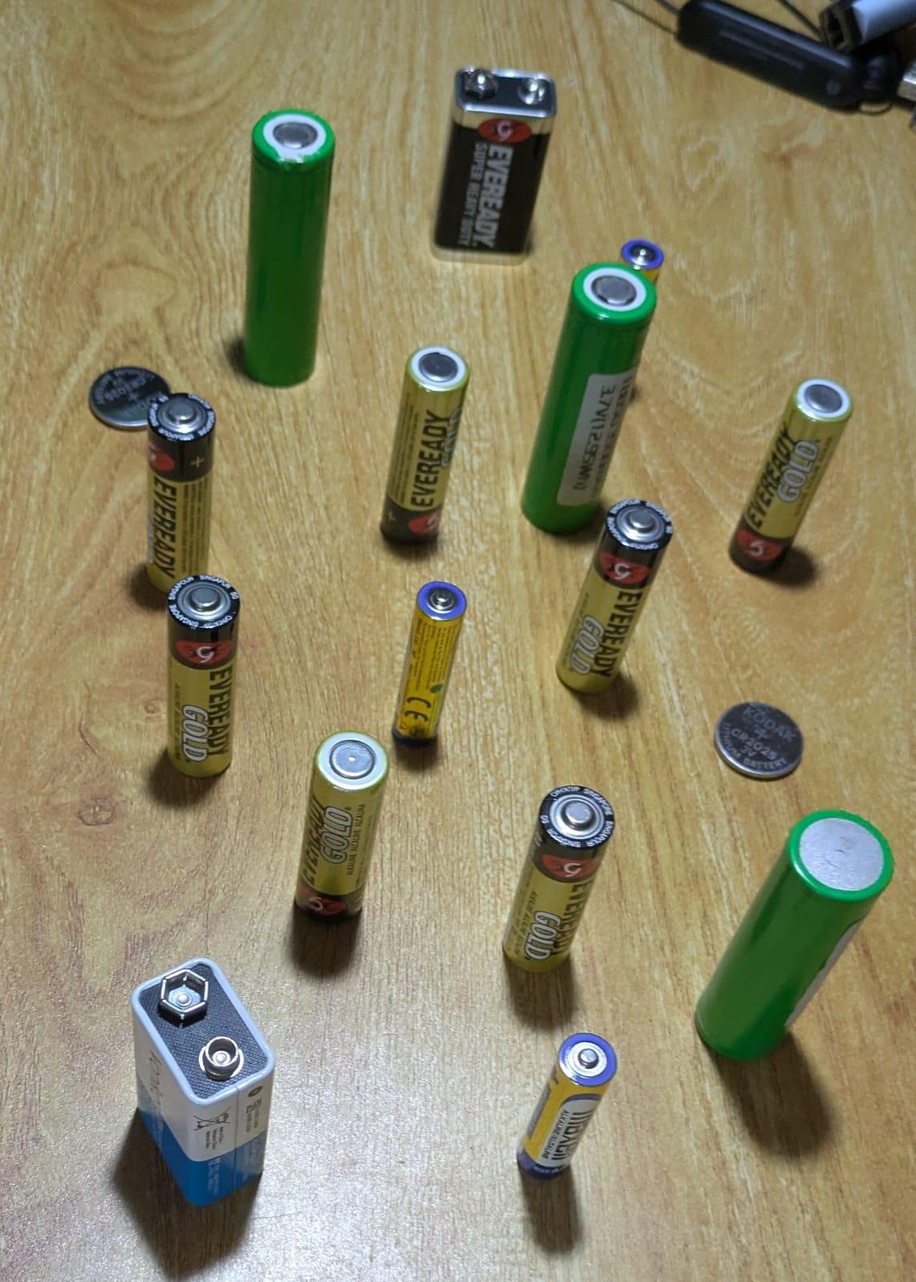9V: (127, 954, 278, 1206), (432, 67, 559, 262)
AA: (727, 378, 852, 578), (554, 500, 672, 693), (500, 781, 617, 973), (379, 346, 471, 548), (293, 731, 388, 920), (164, 568, 242, 772), (145, 390, 218, 596)
AAA: (515, 1031, 616, 1179), (391, 581, 469, 745), (621, 239, 664, 271)
COIN: (712, 700, 807, 781), (87, 365, 174, 430)
